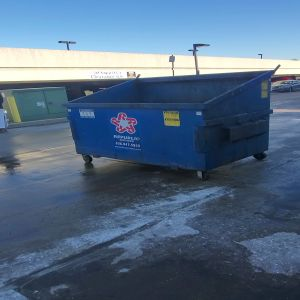Dumpster: (64, 70, 278, 182)
